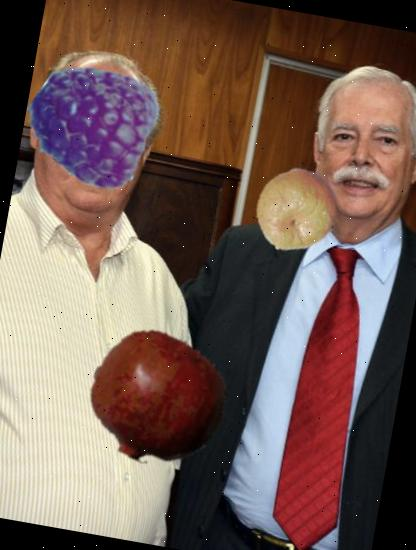Mandarine: (247, 160, 348, 262)
Pomegranate: (78, 320, 235, 478)
Raspberry: (22, 47, 169, 194)
